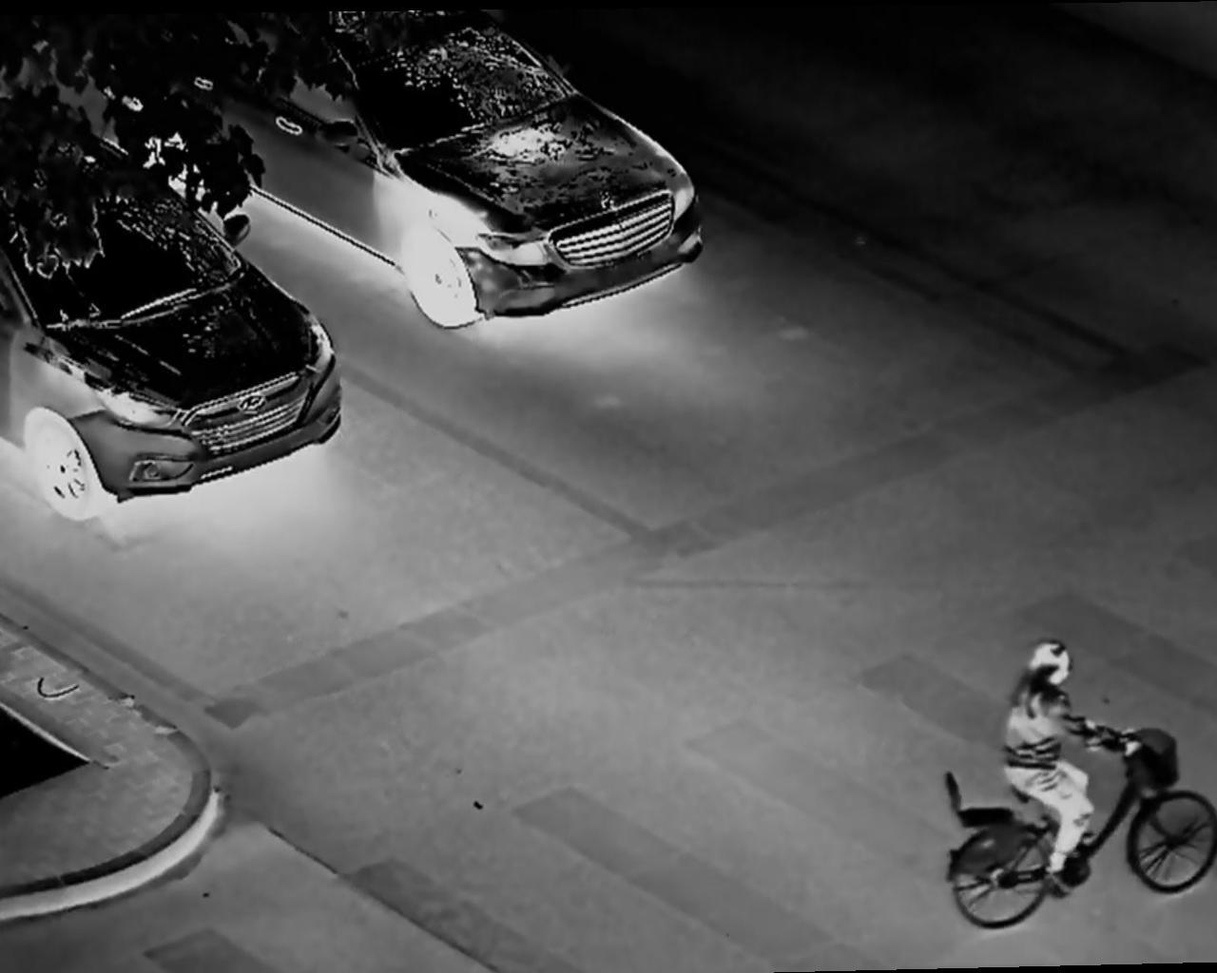person: (996, 639, 1111, 908)
